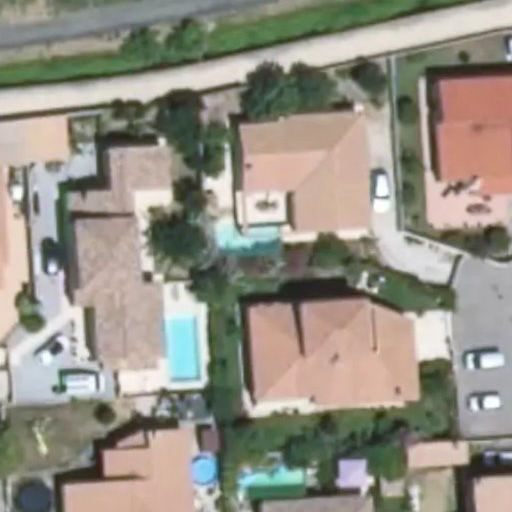pool: (223, 227, 288, 253)
